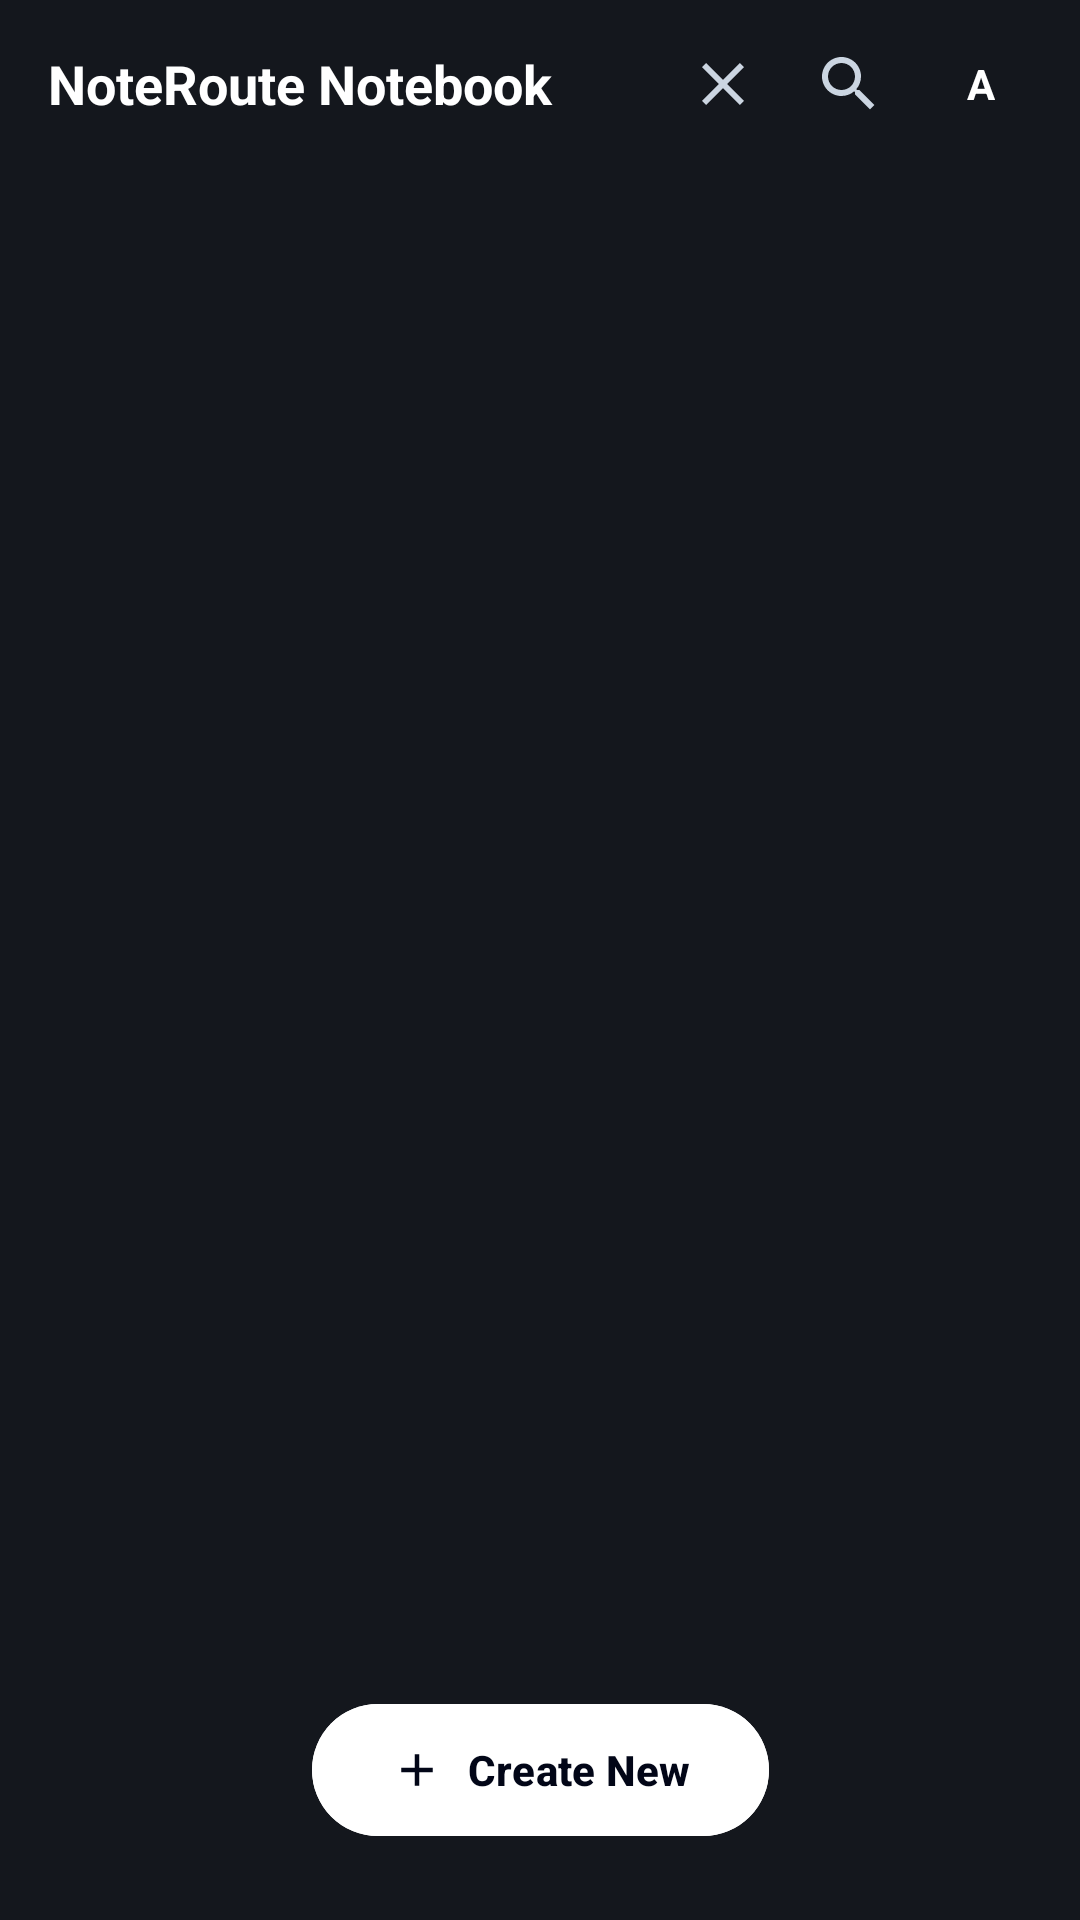

Named icons in this screenshot (1080 x 1920) and their bounding boxes, (x1, y1, x2, y2):
Hapus Masal: (702, 63, 744, 105)
Search: (822, 57, 874, 109)
